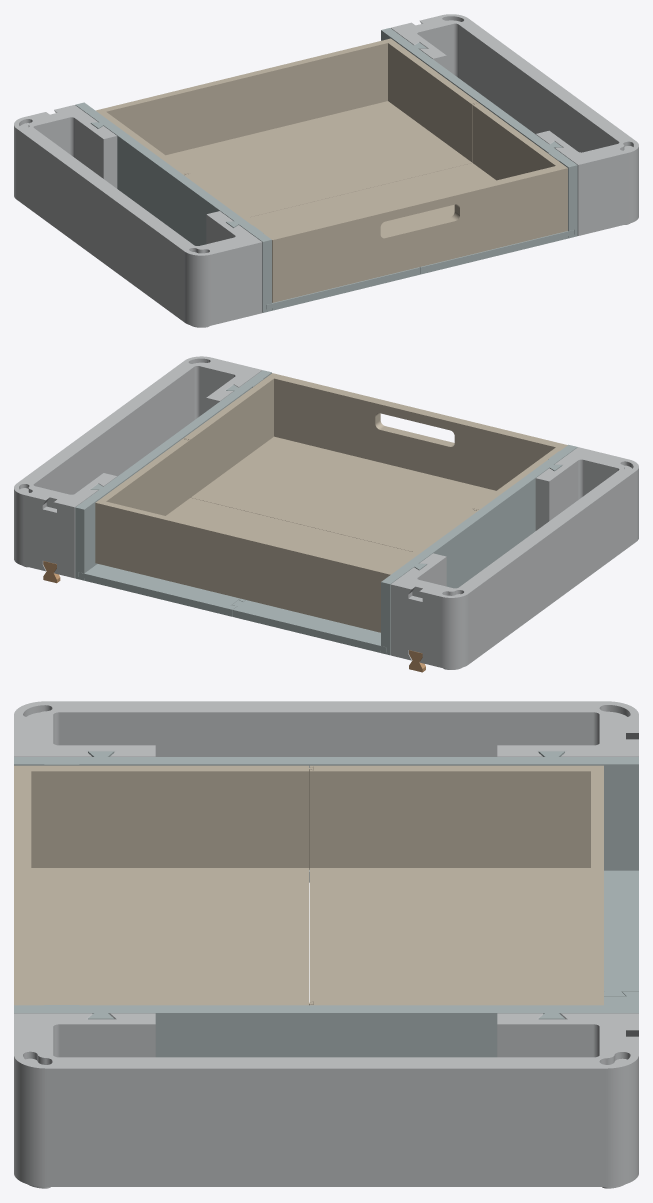
The model's file is layer-assembly.glb.
3 views of the same model, one above another, from view 1: azimuth 30°, elevation 25°; view 2: azimuth 150°, elevation 25°; view 3: azimuth 270°, elevation 25° (orthographic). The views are drawn at different scales.
Parts seen in each view (by area): view 1: drawer_half_2, drawer_half_1, end_left_1, end_right_1, side_left, side_right, front_beam_2, front_beam_1; view 2: drawer_half_1, drawer_half_2, end_left_1, end_right_1, side_left, side_right, rear_beam_2, rear_beam_1; view 3: end_right_1, drawer_half_1, drawer_half_2, end_left_1, side_right, side_left, rear_beam_1.
Boxes of the visible parts, left/top/right/bottom form: drawer_half_2: left=96, top=38, right=478, bottom=217; drawer_half_1: left=184, top=102, right=567, bottom=302; end_left_1: left=14, top=105, right=262, bottom=327; end_right_1: left=391, top=14, right=638, bottom=235; side_left: left=75, top=102, right=271, bottom=312; side_right: left=381, top=28, right=577, bottom=238; front_beam_2: left=420, top=230, right=574, bottom=274; front_beam_1: left=266, top=267, right=420, bottom=310; drawer_half_1: left=184, top=373, right=567, bottom=551; drawer_half_2: left=95, top=438, right=478, bottom=632; end_left_1: left=390, top=447, right=638, bottom=669; end_right_1: left=14, top=356, right=262, bottom=578; side_left: left=381, top=444, right=577, bottom=655; side_right: left=75, top=370, right=271, bottom=580; rear_beam_2: left=78, top=564, right=245, bottom=616; rear_beam_1: left=231, top=600, right=386, bottom=652; end_right_1: left=14, top=1013, right=638, bottom=1188; drawer_half_1: left=14, top=765, right=313, bottom=1005; drawer_half_2: left=309, top=765, right=603, bottom=1005; end_left_1: left=14, top=701, right=638, bottom=756; side_right: left=14, top=1005, right=638, bottom=1057; side_left: left=14, top=751, right=638, bottom=882; rear_beam_1: left=604, top=870, right=638, bottom=996.
Bounding box in the file's own units: 0.399 × 0.068 × 0.287.
